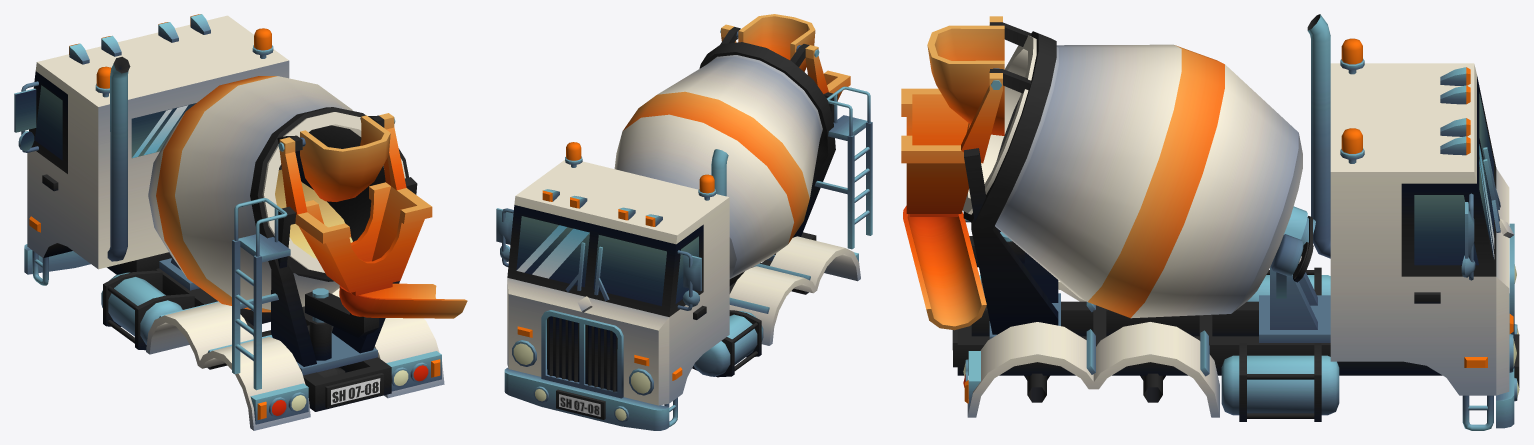
File: car17.glb
3 renders of one model, left to right at view 1: azimuth 30°, elevation 25°; view 2: azimuth 150°, elevation 25°; view 3: azimuth 270°, elevation 25°, orthographic. The views are drawn at different scales.
Parts seen in each view (by area): view 1: model_9; view 2: model_9; view 3: model_9.
Part boxes in pixels (left/top/right/bottom): model_9: left=14, top=14, right=467, bottom=430; model_9: left=496, top=14, right=872, bottom=430; model_9: left=901, top=14, right=1519, bottom=430.
Bounding box in the file's own units: 167 × 191 × 317.
Materials: 1 (1 with a texture image).
